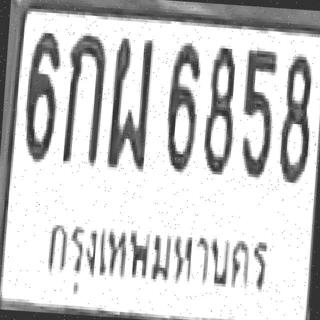A01: (61, 30, 106, 164)
A28: (105, 33, 152, 168)
N05: (237, 47, 276, 178)
N06: (21, 27, 61, 161), (162, 39, 200, 170)
N08: (200, 41, 238, 172), (275, 50, 312, 180)
P04: (38, 210, 273, 317)
